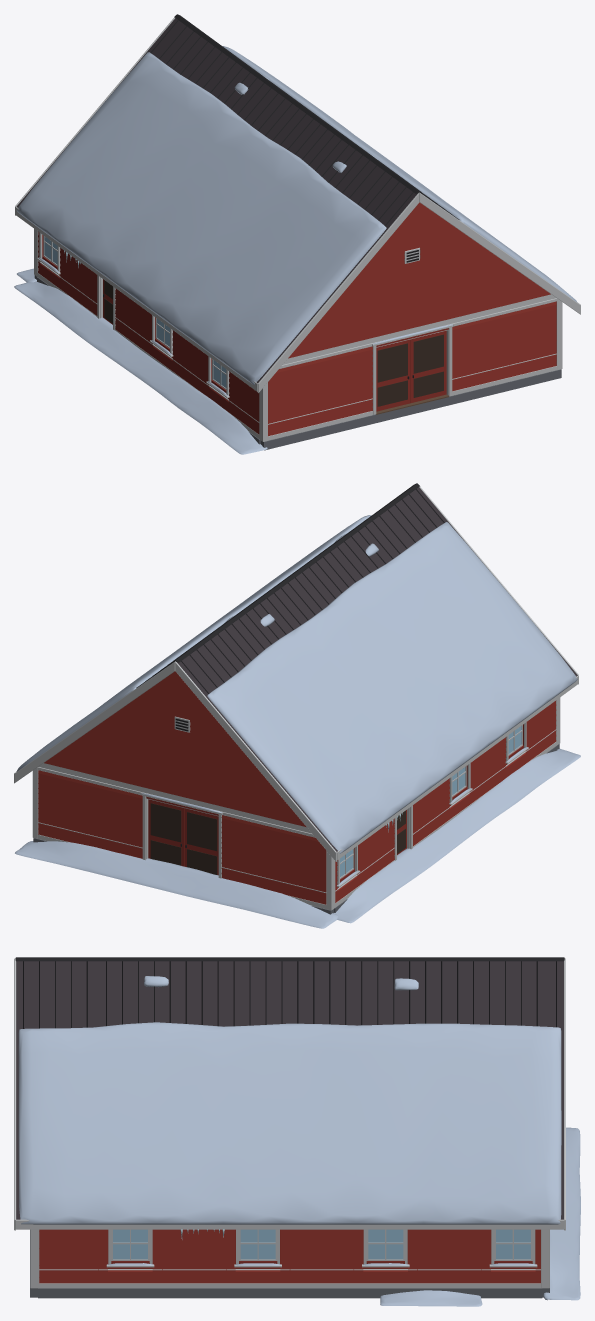
File: barn.glb
3 views of the same model, one above another, from view 1: azimuth 30°, elevation 25°; view 2: azimuth 150°, elevation 25°; view 3: azimuth 270°, elevation 25° (orthographic). The views are drawn at different scales.
Visible parts, largest first — view 1: Roof, Walls0_S, Floor0, Walls0_W, Door_1, Door_0; view 2: Roof, Walls0_N, Floor0, Walls0_W, Door_3, Door_2; view 3: Roof, Walls0_E, Floor0, Walls0_E_Stub, Window_1, Window_2, Window_0, Window_3, Walls0_S, Walls0_N.
Boxes of the visible parts, <box> form: Roof: <box>15,14,580,393</box>; Walls0_S: <box>259,298,562,441</box>; Floor0: <box>14,268,561,454</box>; Walls0_W: <box>37,231,259,438</box>; Door_1: <box>410,330,446,402</box>; Door_0: <box>376,339,410,411</box>; Roof: <box>14,483,578,861</box>; Walls0_N: <box>32,767,335,910</box>; Floor0: <box>15,744,580,928</box>; Walls0_W: <box>335,700,556,907</box>; Door_3: <box>148,799,184,866</box>; Door_2: <box>184,808,218,875</box>; Roof: <box>14,957,565,1239</box>; Walls0_E: <box>39,1229,540,1288</box>; Floor0: <box>30,1127,580,1306</box>; Walls0_E_Stub: <box>39,1269,540,1271</box>; Window_1: <box>240,1229,275,1259</box>; Window_2: <box>368,1229,403,1259</box>; Window_0: <box>113,1229,147,1259</box>; Window_3: <box>496,1229,530,1259</box>; Walls0_S: <box>30,1229,39,1288</box>; Walls0_N: <box>541,1229,549,1288</box>.
Size of what is drawn, in the model's own units: 13.88 by 8.92 by 17.77.
